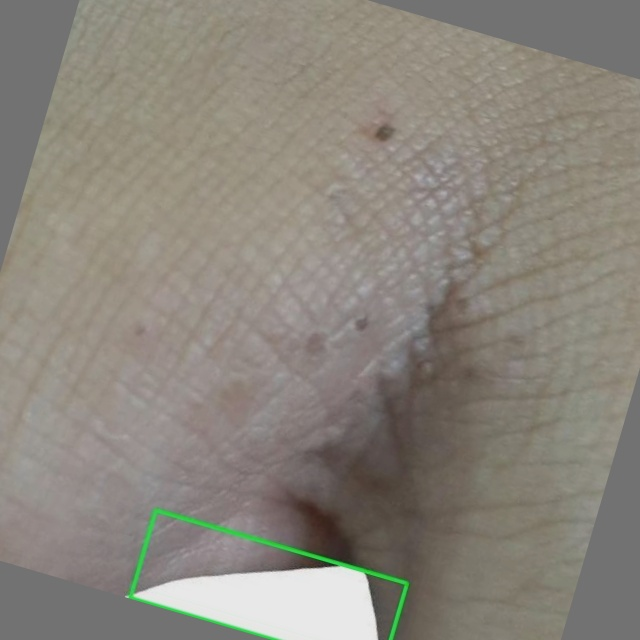Scabies: (129, 509, 406, 639)
